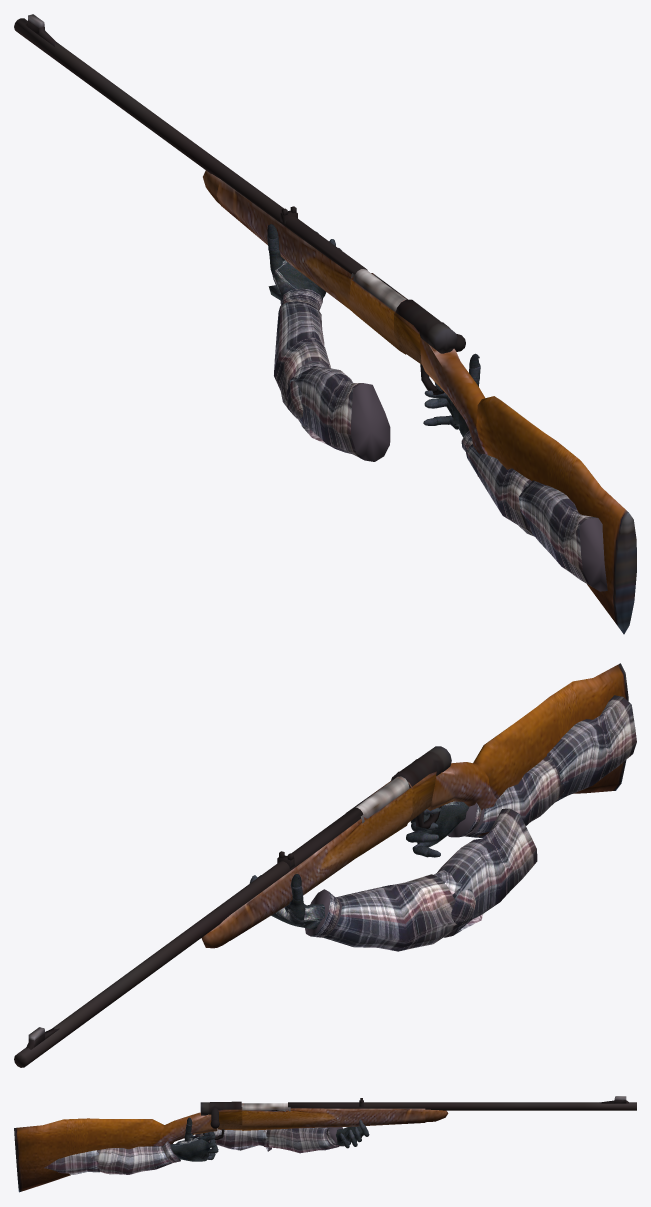
File: cz550_view.fbx
3 renders of one model, top to bottom at view 1: azimuth 30°, elevation 25°; view 2: azimuth 150°, elevation 25°; view 3: azimuth 270°, elevation 25°, orthographic. The views are drawn at different scales.
Visible parts, largest first — view 1: CZ550_stock, larm, CZ550_grip, CZ550_barrel, rupperarm, rforearm, CZ550_bolt, lhand, CZ550_breech; view 2: larm, CZ550_stock, CZ550_grip, CZ550_barrel, rupperarm, rforearm, lhand, CZ550_bolt, rhand, CZ550_breech; view 3: CZ550_stock, CZ550_grip, CZ550_barrel, larm, rforearm, rupperarm, rhand, lhand, CZ550_bolt, CZ550_breech.
Part boxes in pixels (<box>): CZ550_stock: <box>420,338,636,634</box>; larm: <box>274,288,390,461</box>; CZ550_grip: <box>203,170,421,364</box>; CZ550_barrel: <box>14,18,367,274</box>; rupperarm: <box>518,480,607,591</box>; rforearm: <box>461,430,534,536</box>; CZ550_bolt: <box>396,299,465,353</box>; lhand: <box>267,224,341,300</box>; CZ550_breech: <box>351,269,406,311</box>; larm: <box>305,808,537,951</box>; CZ550_stock: <box>427,663,628,836</box>; CZ550_grip: <box>201,771,436,948</box>; CZ550_barrel: <box>14,807,363,1067</box>; rupperarm: <box>547,695,636,802</box>; rforearm: <box>448,756,563,837</box>; lhand: <box>249,874,325,929</box>; CZ550_bolt: <box>391,746,451,788</box>; rhand: <box>410,801,469,847</box>; CZ550_breech: <box>355,776,409,823</box>; CZ550_stock: <box>14,1112,217,1192</box>; CZ550_grip: <box>217,1107,448,1130</box>; CZ550_barrel: <box>288,1102,636,1110</box>; larm: <box>195,1127,344,1153</box>; rforearm: <box>94,1141,180,1174</box>; rupperarm: <box>44,1150,99,1174</box>; rhand: <box>170,1136,210,1161</box>; lhand: <box>333,1120,369,1148</box>; CZ550_bolt: <box>200,1101,241,1128</box>; CZ550_breech: <box>241,1103,290,1111</box>.
Size of the model in its own units: 11.13 by 13.56 by 80.34.
3 materials, 3 textured.
